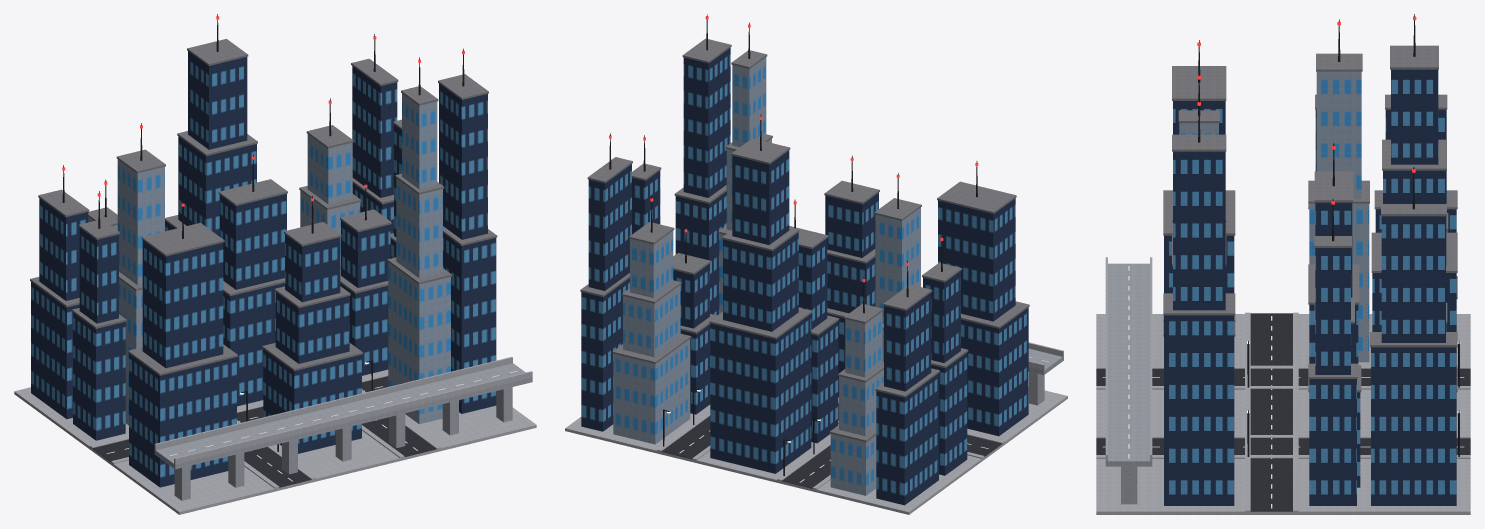
The model's file is Ville_06.glb.
3 renders of one model, left to right at view 1: azimuth 30°, elevation 25°; view 2: azimuth 150°, elevation 25°; view 3: azimuth 270°, elevation 25°, orthographic. The views are drawn at different scales.
Parts seen in each view (by area): view 1: Ville_06; view 2: Ville_06; view 3: Ville_06.
Boxes of the visible parts, x1=… form: Ville_06: x1=14, y1=14, x2=536, y2=514; Ville_06: x1=565, y1=14, x2=1067, y2=514; Ville_06: x1=1096, y1=14, x2=1470, y2=514.
Size of the model in its own units: 40 by 37.9 by 32.
10 materials, 6 textured.
